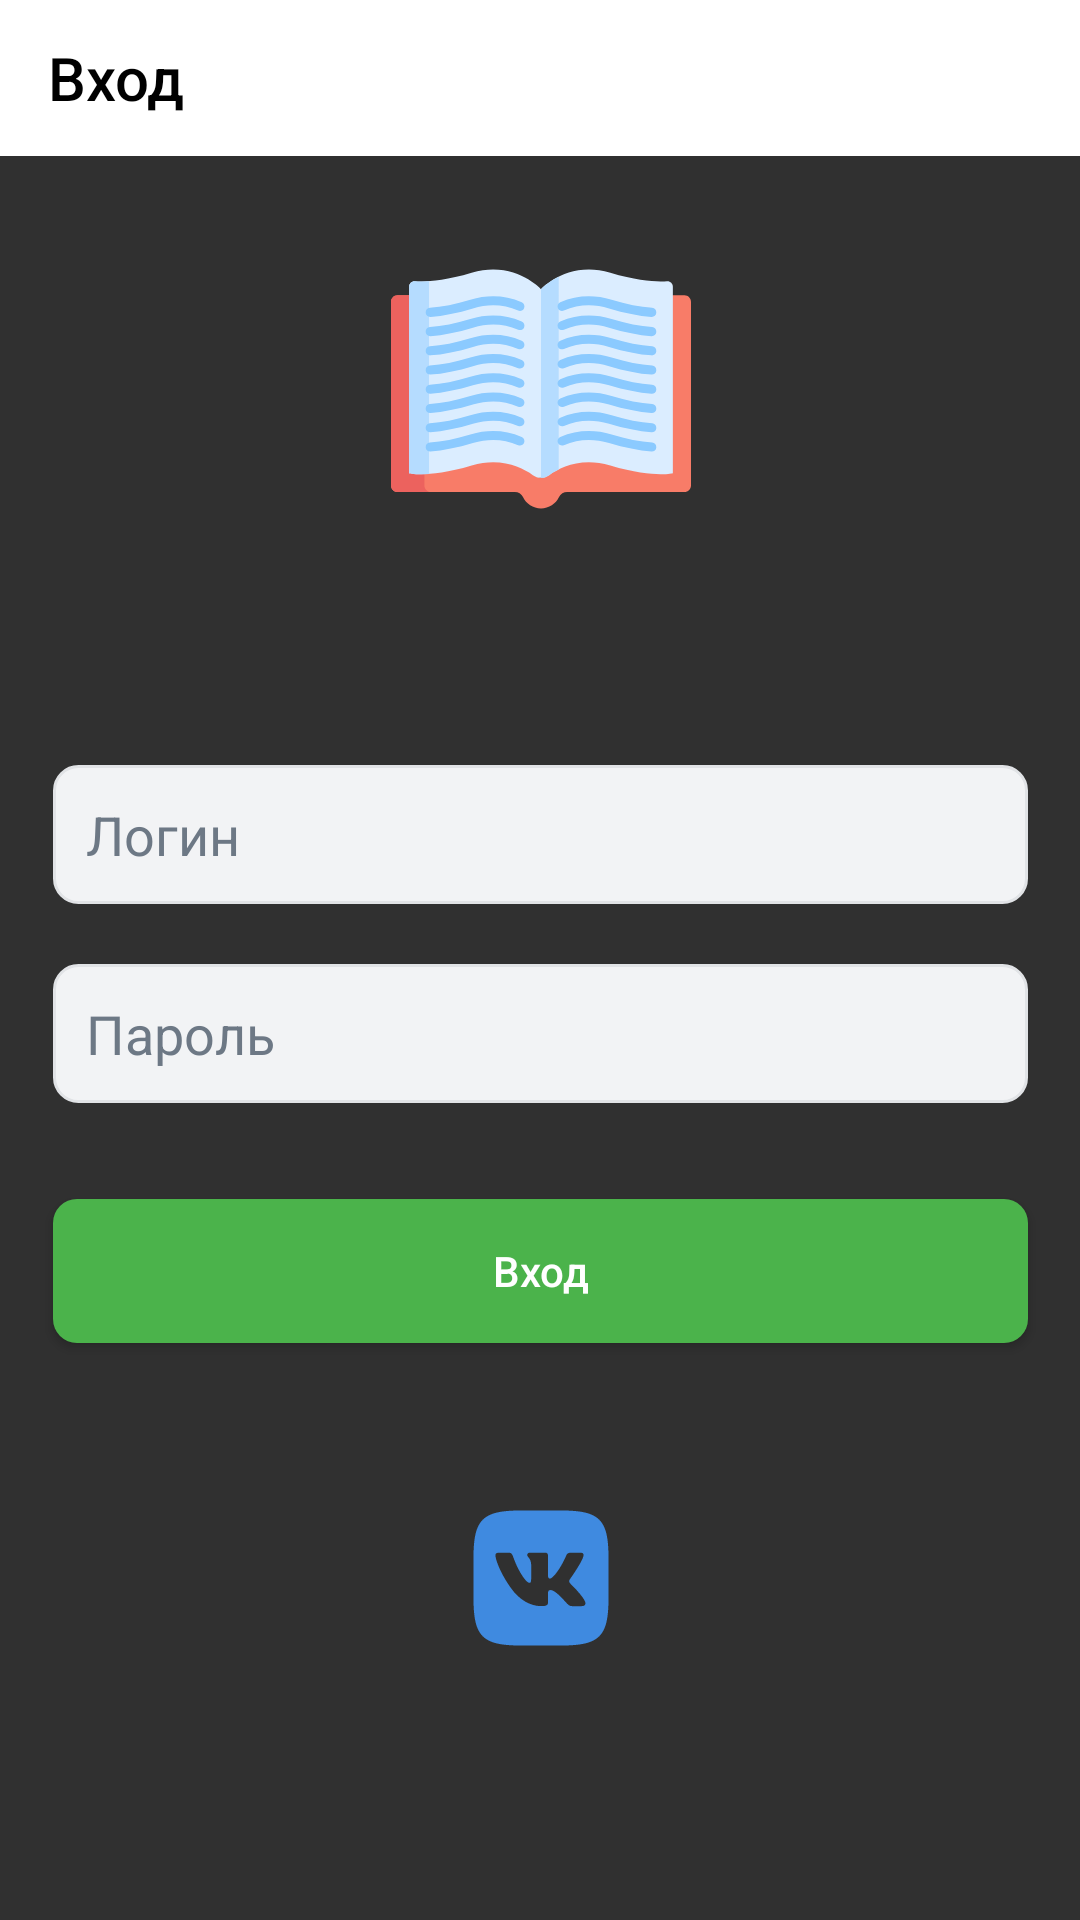

Where icons sit on this 1080 x 1920 app screen, as (x1, y1, x2, y2):
study: (391, 269, 691, 509)
